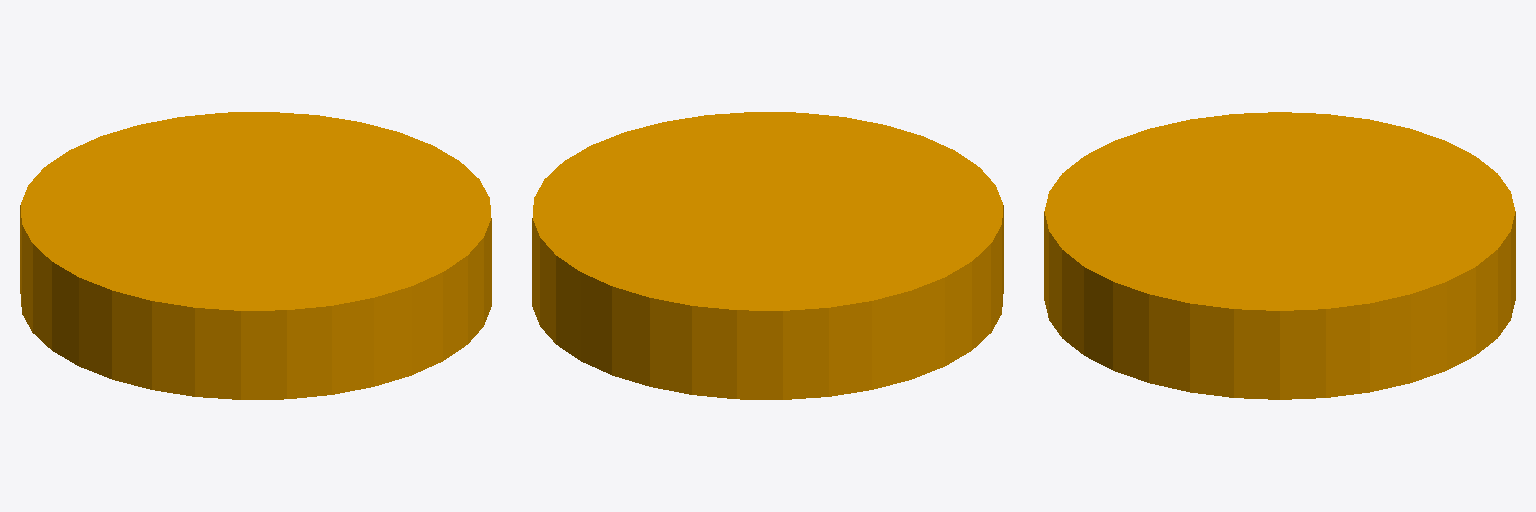
URDF robot description (cylinder3):
<?xml version="1.0"?>
<robot name="cylinder3">

<link name="base_link">
  <collision>
    <origin xyz="0 0 0" rpy="0 0 0"/>
    <geometry>
      <cylinder length="0.025" radius="0.06"/>
    </geometry>
  </collision>

  <visual>
    <origin xyz="0 0 0" rpy="0 0 0"/>
    <geometry>
      <mesh filename="package://ur5_pick_place_gazebo/meshes/aruco3.dae"/>
    </geometry>
  </visual>

  <inertial>
    <origin xyz="0 0 0" rpy="0 0 0"/>
    <mass value="0.2" />
    <inertia
      ixx="0.001" ixy="0.0"  ixz="0.0"
      iyy="0.001" iyz="0.0"
      izz="0.001" />
  </inertial>
</link>

<gazebo reference="base_link">
    <mu1>5</mu1>
    <mu2>5</mu2>
    <maxVel>0</maxVel>
    <minDepth>0.001</minDepth>
</gazebo>

</robot>

--- Facts derived from the render (not from the file) ---
3 views of the same robot in one strip: view 1: azimuth 30°, elevation 25°; view 2: azimuth 150°, elevation 25°; view 3: azimuth 270°, elevation 25° (orthographic).
Model cylinder3 with 1 links and 0 joints (none), rooted at base_link, posed every joint at zero.
Links seen in each view (by area): view 1: base_link; view 2: base_link; view 3: base_link.
Link boxes in pixels (box(x1,y1,x2,y2)): base_link: box(20, 112, 491, 399); base_link: box(532, 112, 1003, 399); base_link: box(1044, 112, 1515, 399).
Bounding box of the posed robot: 0.12 × 0.12 × 0.025 m (x, y, z).
1 mesh visuals loaded from 1 distinct referenced files (1 Collada DAE).